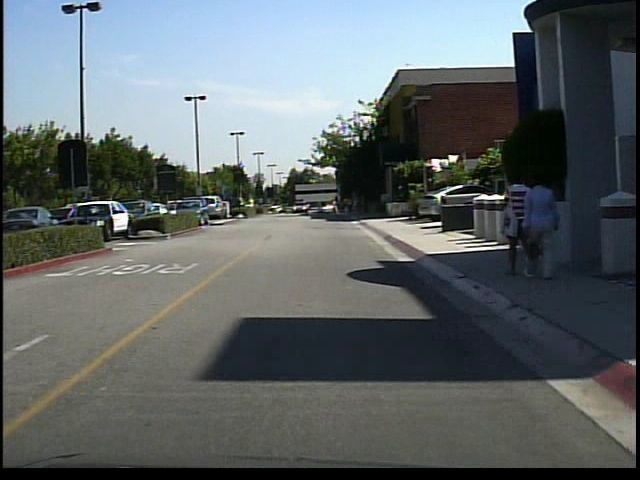person: (519, 168, 562, 281), (501, 164, 530, 281), (243, 192, 260, 220), (331, 195, 342, 220)
